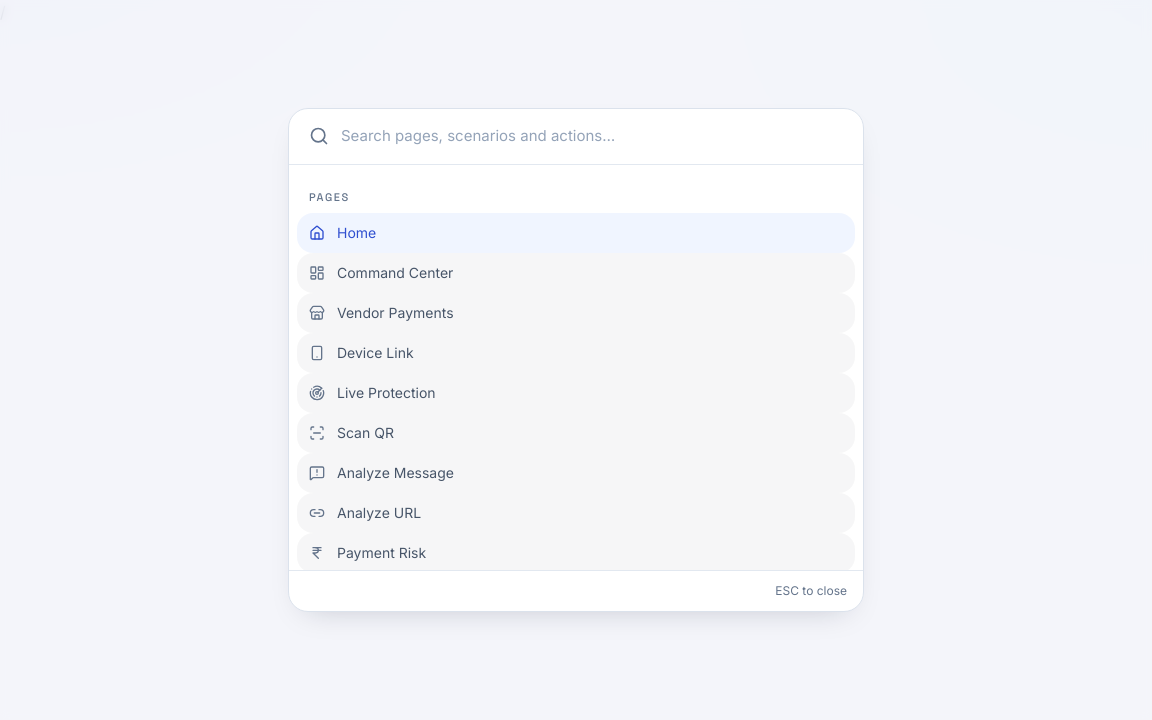
Test: CommandPalette › filters commands when typing
This screenshot has width=1152, height=720.
Type "dna" into the field named "Search commands" at (592, 136), box x1=341 y1=125 x2=843 y2=148
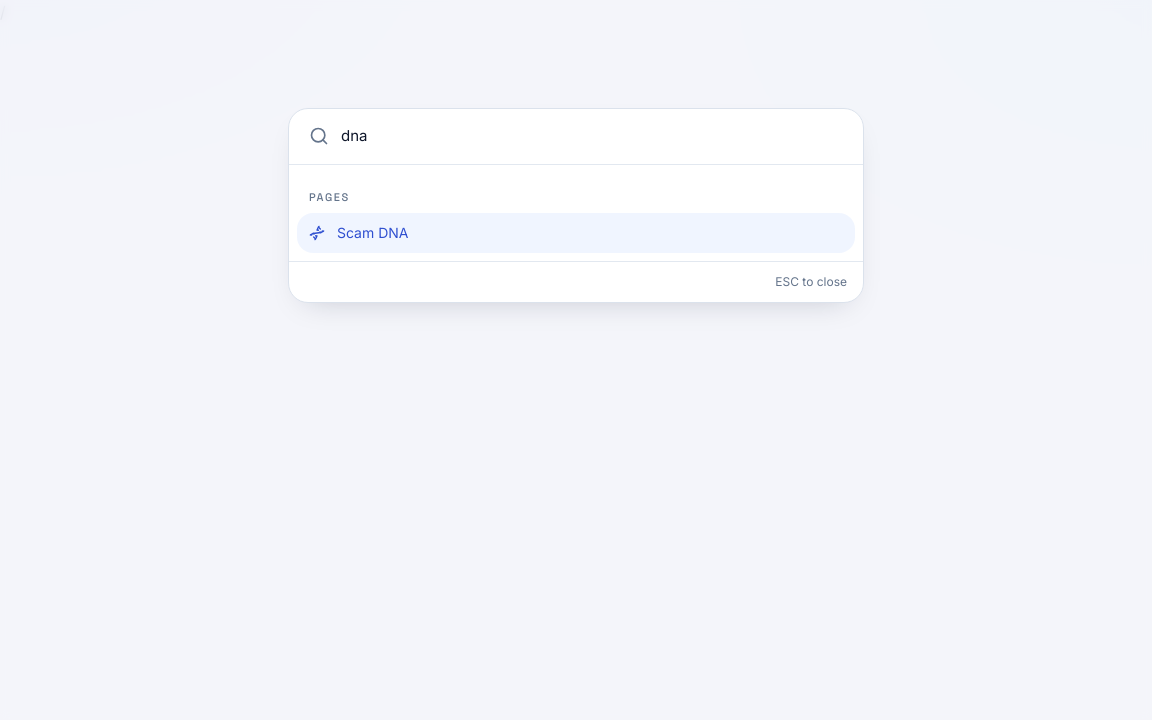
Check: the text "Scam DNA" is shown, box x1=337 y1=223 x2=408 y2=243
Check: the option "Home" is gone
